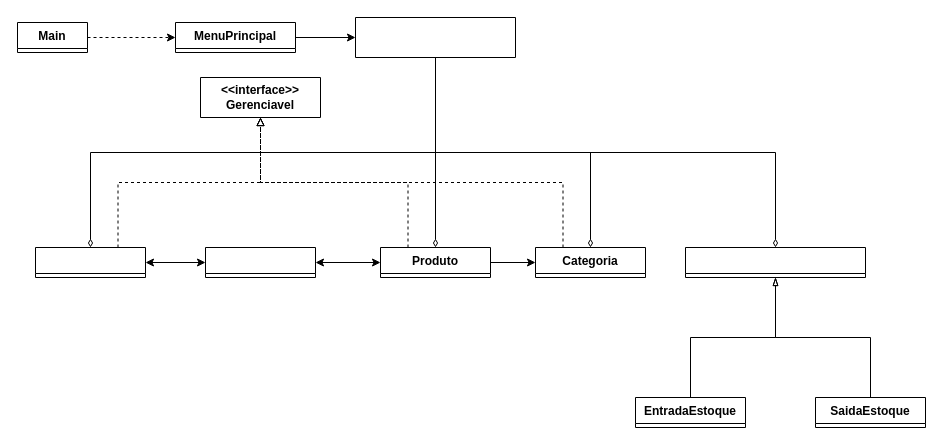
Some shapes in this 943 by 445 pixel diagram are drawn without their labels. Each missing label, with the centre of its shape:
Fornecedor: pixel 90 262
Fornecimento: pixel 260 262
GerenciadordeDados: pixel 435 37
MovimentoEstoque (abstract): pixel 775 262
